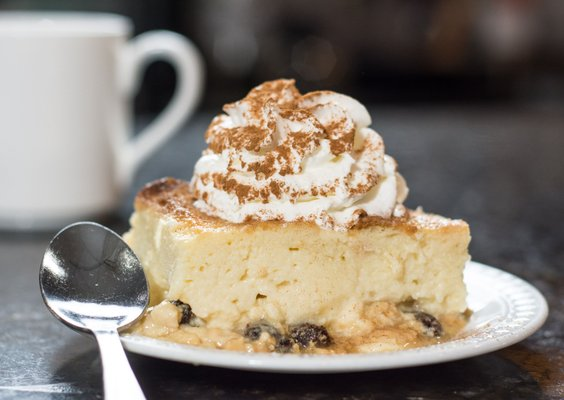burger: (40, 221, 149, 397)
pizza: (0, 10, 208, 236)
salad: (39, 221, 149, 397)
